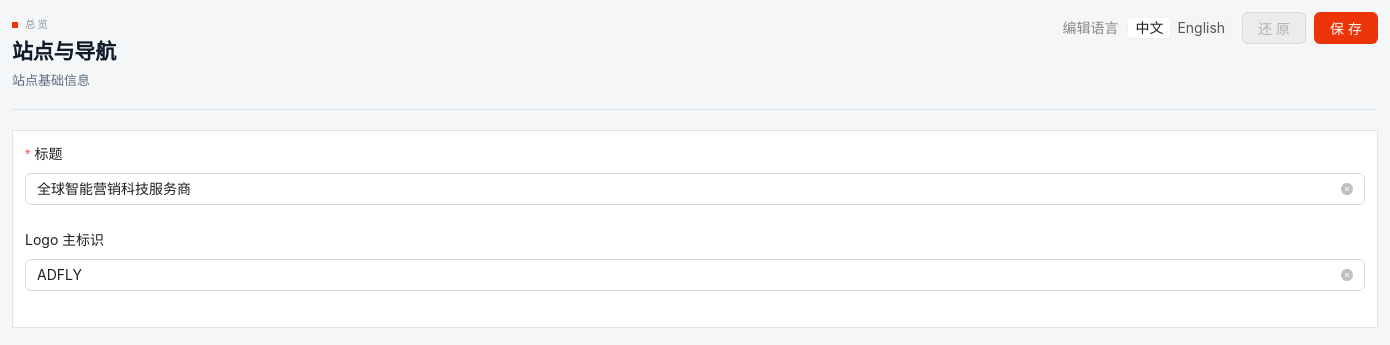
Test: ContentEditor › E5 非 Error 异常时给出兜底提示
Click the button with test id "content-save".
click(1346, 28)  # box [1314, 12, 1378, 44]
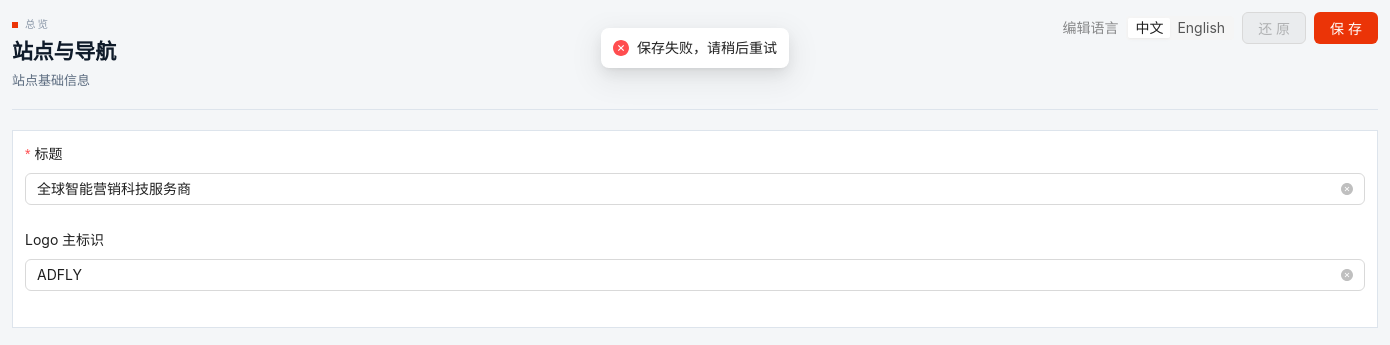
Expected: the text "保存失败，请稍后重试" is shown, [637, 37, 777, 59]
